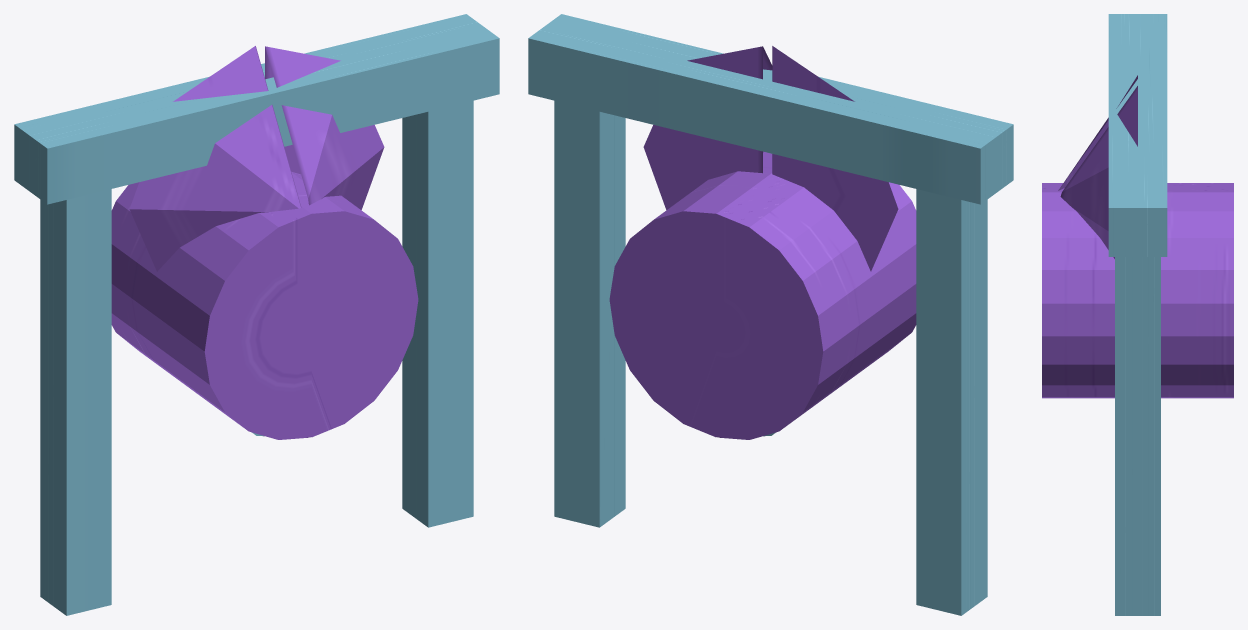
File: frozen_bell.obj
3 renders of one model, left to right at view 1: azimuth 30°, elevation 25°; view 2: azimuth 150°, elevation 25°; view 3: azimuth 270°, elevation 25°, orthographic. The views are drawn at different scales.
Size of the model in its own units: 5.5 by 5.95 by 2.3.
Materials: 1 (1 with a texture image).
